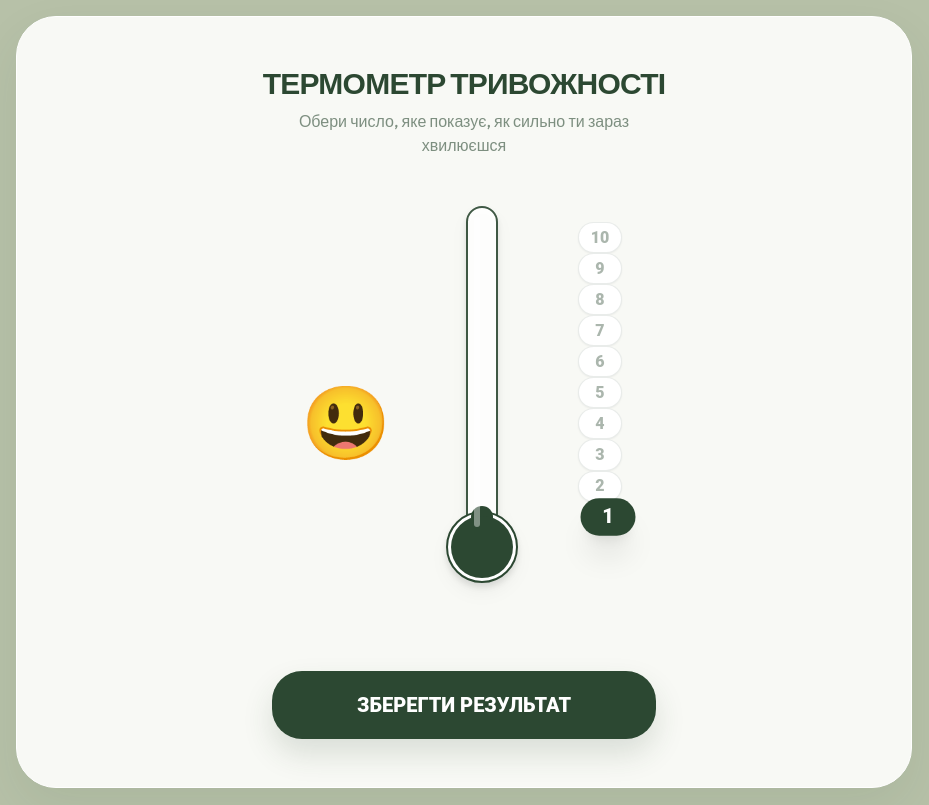
Scenario: ChildrenAnxietyMeter › shows success message after save
The image size is (929, 805).
Click the button "ЗБЕРЕГТИ РЕЗУЛЬТАТ". click: (464, 705)
box: [272,671,656,739]
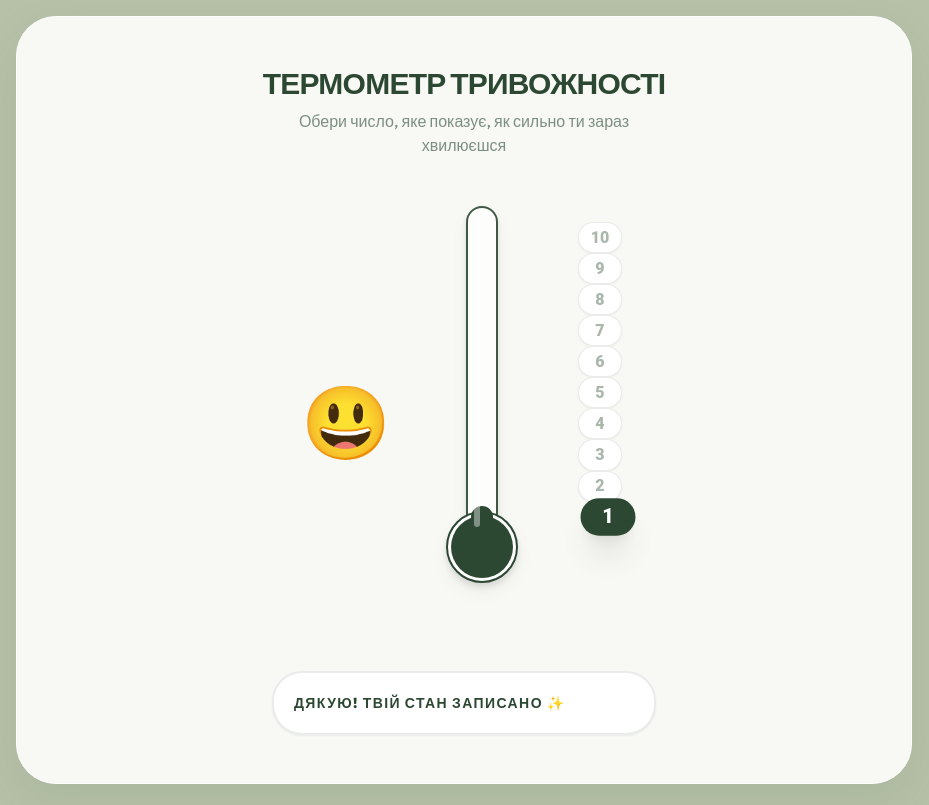
Expected: the text "Дякую! Твій стан записано ✨" is shown, [294,694,566,712]
